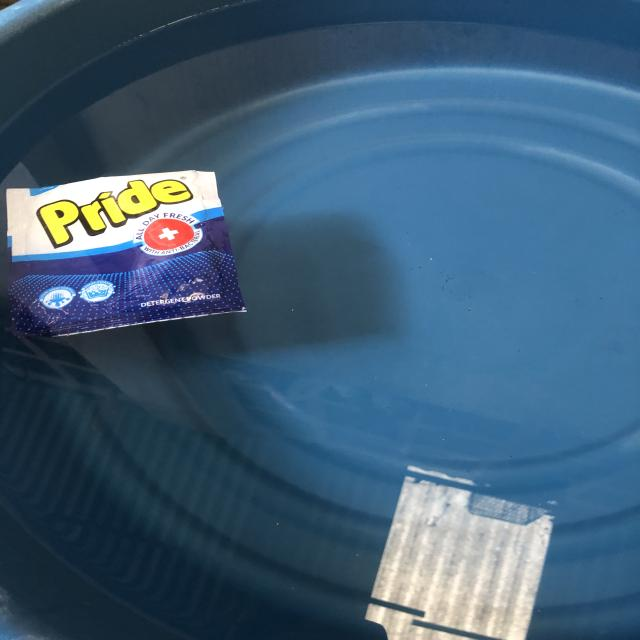Plastic Wrapper: (7, 170, 245, 336)
